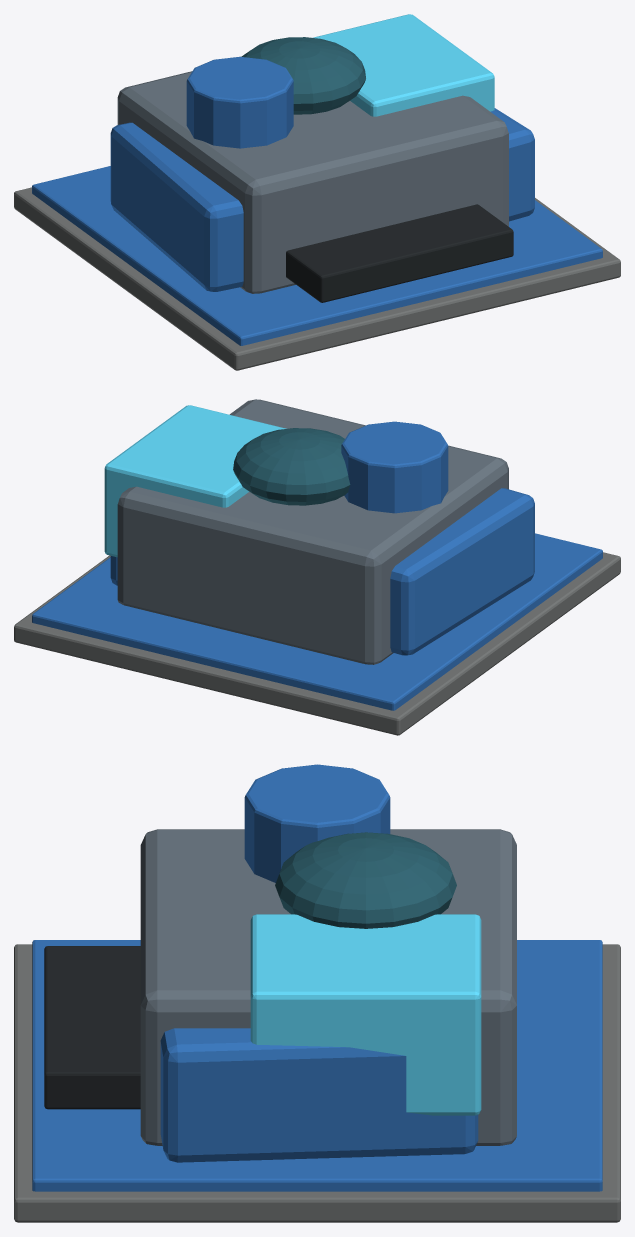
The model's file is SM_Alliance_AL_Refinery.fbx.
The picture shows the model from 3 angles, top to bottom: view 1: azimuth 30°, elevation 25°; view 2: azimuth 150°, elevation 25°; view 3: azimuth 270°, elevation 25°; orthographic projection. The views are drawn at different scales.
Parts seen in each view (by area): view 1: SM_Alliance_AL_Refinery_MainMass, SM_Alliance_AL_Refinery_FoundationTrim, SM_Alliance_AL_Refinery, SM_Alliance_AL_Refinery_Module_-1, SM_Alliance_AL_Refinery_Conveyor, SM_Alliance_AL_Refinery_OreHopper, SM_Alliance_AL_Refinery_Processor, SM_Alliance_AL_Refinery_SensorDome, SM_Alliance_AL_Refinery_Module_+1; view 2: SM_Alliance_AL_Refinery_MainMass, SM_Alliance_AL_Refinery_FoundationTrim, SM_Alliance_AL_Refinery, SM_Alliance_AL_Refinery_Module_-1, SM_Alliance_AL_Refinery_OreHopper, SM_Alliance_AL_Refinery_Processor, SM_Alliance_AL_Refinery_SensorDome; view 3: SM_Alliance_AL_Refinery_FoundationTrim, SM_Alliance_AL_Refinery_MainMass, SM_Alliance_AL_Refinery_OreHopper, SM_Alliance_AL_Refinery_Module_+1, SM_Alliance_AL_Refinery, SM_Alliance_AL_Refinery_Conveyor, SM_Alliance_AL_Refinery_SensorDome, SM_Alliance_AL_Refinery_Processor.
Part boxes in pixels (x1,y1,x2,y2): SM_Alliance_AL_Refinery_MainMass: (117,71,508,293); SM_Alliance_AL_Refinery_FoundationTrim: (32,166,602,345); SM_Alliance_AL_Refinery: (14,187,620,370); SM_Alliance_AL_Refinery_Module_-1: (110,122,243,291); SM_Alliance_AL_Refinery_Conveyor: (286,204,513,302); SM_Alliance_AL_Refinery_OreHopper: (312,14,494,116); SM_Alliance_AL_Refinery_Processor: (186,56,293,148); SM_Alliance_AL_Refinery_SensorDome: (241,37,365,114); SM_Alliance_AL_Refinery_Module_+1: (490,108,534,221); SM_Alliance_AL_Refinery_MainMass: (117,399,508,664); SM_Alliance_AL_Refinery_FoundationTrim: (32,533,602,710); SM_Alliance_AL_Refinery: (14,552,620,735); SM_Alliance_AL_Refinery_Module_-1: (390,488,534,655); SM_Alliance_AL_Refinery_OreHopper: (104,405,286,557); SM_Alliance_AL_Refinery_Processor: (341,421,448,513); SM_Alliance_AL_Refinery_SensorDome: (233,428,350,505); SM_Alliance_AL_Refinery_FoundationTrim: (32,940,602,1191); SM_Alliance_AL_Refinery_MainMass: (140,829,516,1145); SM_Alliance_AL_Refinery_OreHopper: (250,914,481,1115); SM_Alliance_AL_Refinery_Module_+1: (160,1028,478,1162); SM_Alliance_AL_Refinery: (14,944,620,1222); SM_Alliance_AL_Refinery_Conveyor: (44,946,140,1109); SM_Alliance_AL_Refinery_SensorDome: (275,832,456,928); SM_Alliance_AL_Refinery_Processor: (244,764,390,882).
Size of what is drawn, in the model's own units: 800 by 800 by 364.
